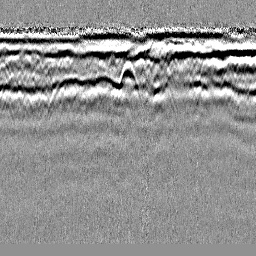cavity: (113, 57, 142, 103)
